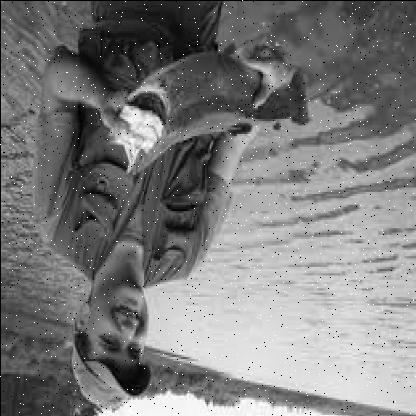fish: (108, 46, 308, 178)
